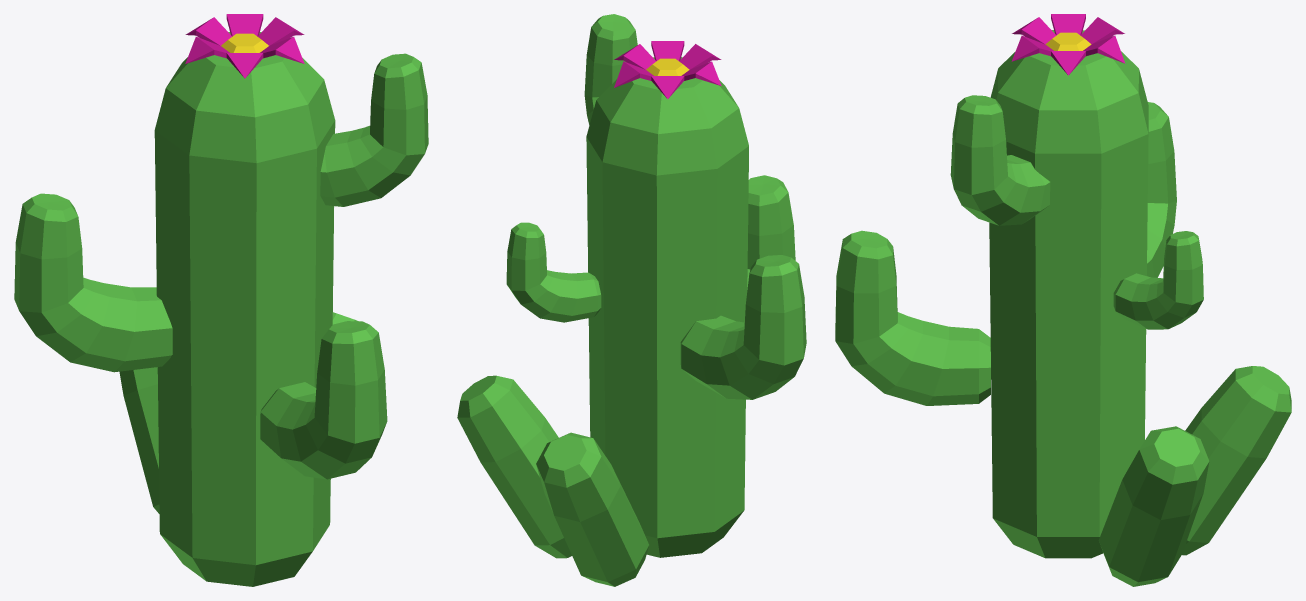
Rendered from Cactus_Short.fbx.
3 renders of one model, left to right at view 1: azimuth 30°, elevation 25°; view 2: azimuth 150°, elevation 25°; view 3: azimuth 270°, elevation 25°, orthographic. The views are drawn at different scales.
Parts seen in each view (by area): view 1: Cactus_Short; view 2: Cactus_Short; view 3: Cactus_Short.
Boxes of the visible parts, <box> form: Cactus_Short: <box>14,14,428,586</box>; Cactus_Short: <box>457,14,806,586</box>; Cactus_Short: <box>835,14,1291,586</box>.
Size of the model in its own units: 107 by 152 by 122.
